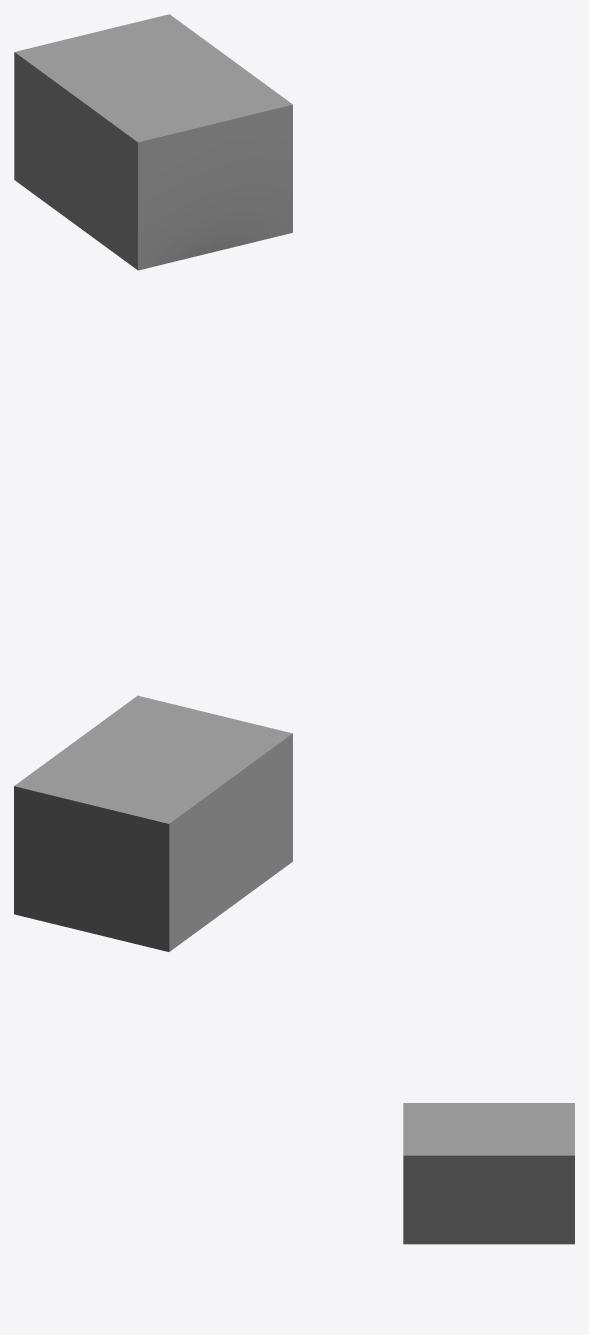
Rendered from shipGun.fbx.
The picture shows the model from 3 angles, top to bottom: view 1: azimuth 30°, elevation 25°; view 2: azimuth 150°, elevation 25°; view 3: azimuth 270°, elevation 25°; orthographic projection. The views are drawn at different scales.
Parts seen in each view (by area): view 1: shipGun; view 2: shipGun; view 3: shipGun.
Boxes of the visible parts, x1,y1,x2,y2 form: shipGun: (14,14,292,270); shipGun: (14,695,292,951); shipGun: (403,1103,574,1244).
Size of the model in its own units: 90.4 by 146 by 401.
Materials: 1 (1 with a texture image).
